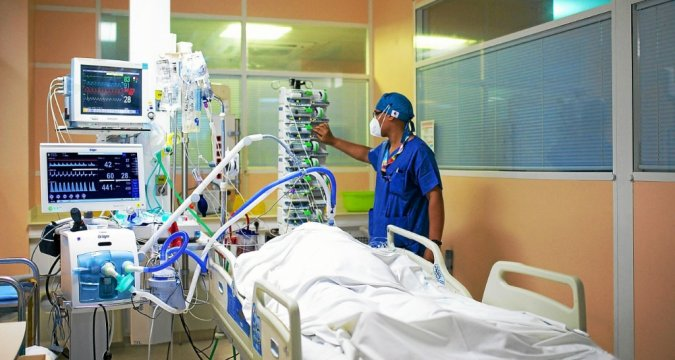with_mask: (373, 110, 386, 137)
